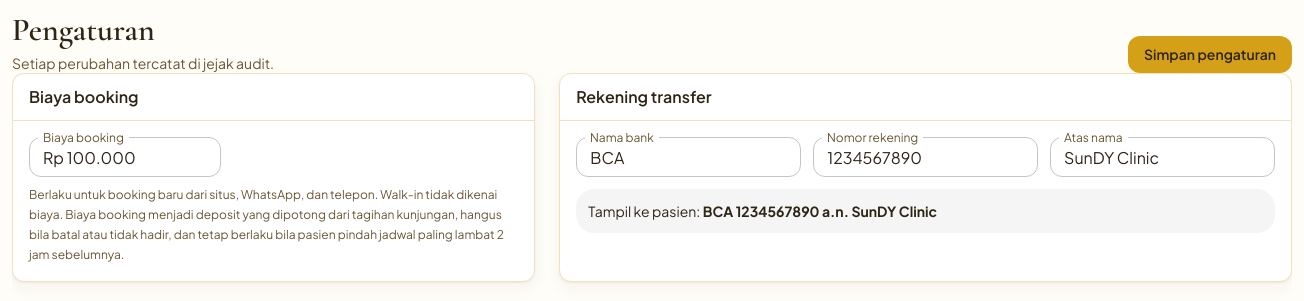
Scenario: ClinicSettingForm (spec D 5.5) › pratinjau mengikuti ketikan; rekening belum lengkap memakai kalimat pengganti
Step 1. Clear the field labelled "Atas nama" → [1163, 157], box [1050,137,1275,177]
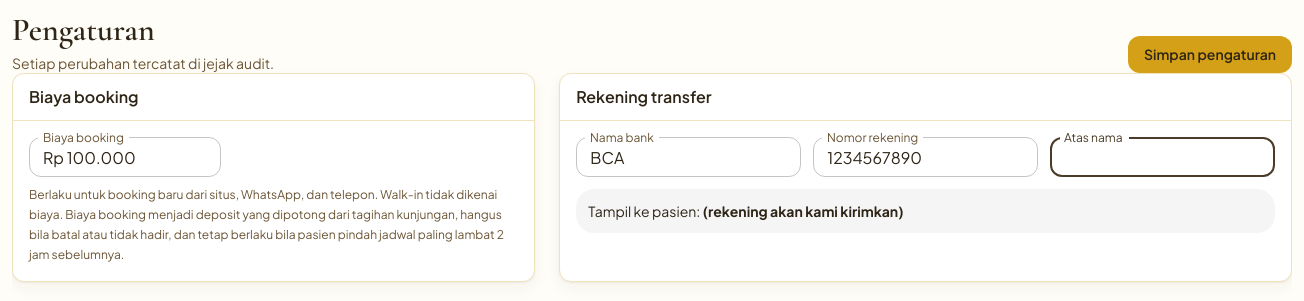
Result: the element "Rekening transfer" shows "Tampil ke pasien: (rekening akan kami kirimkan)" at [559,73,1292,282]
Step 2. Type "PT SunDY" into the field labelled "Atas nama" → [1163, 157], box [1050,137,1275,177]
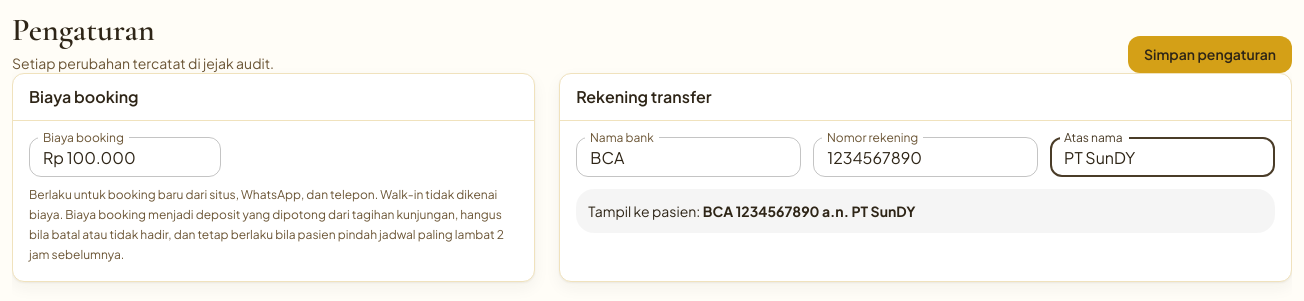
Result: the element "Rekening transfer" shows "BCA 1234567890 a.n. PT SunDY" at [703,202,915,220]
